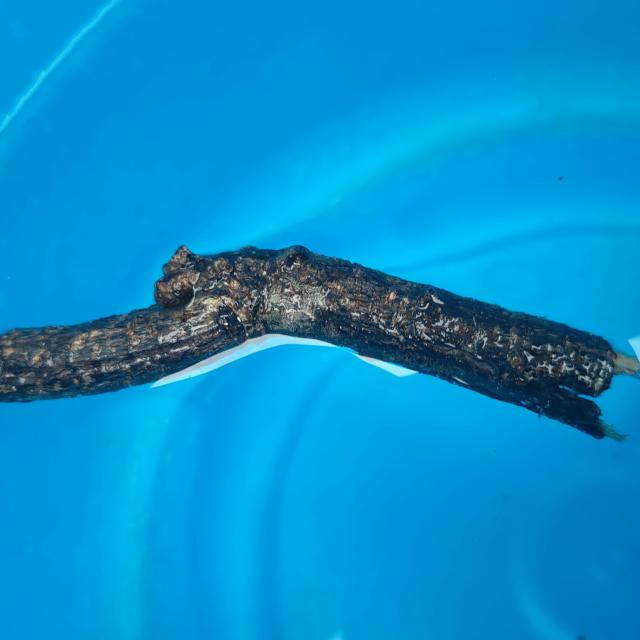wood: (7, 195, 620, 454)
